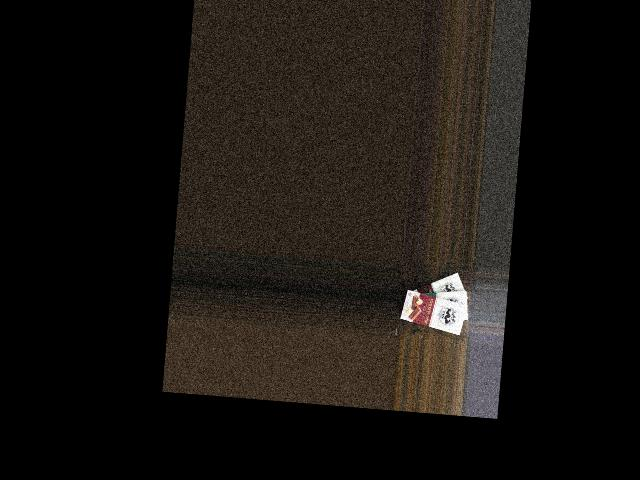chocolate: (401, 267, 471, 315)
